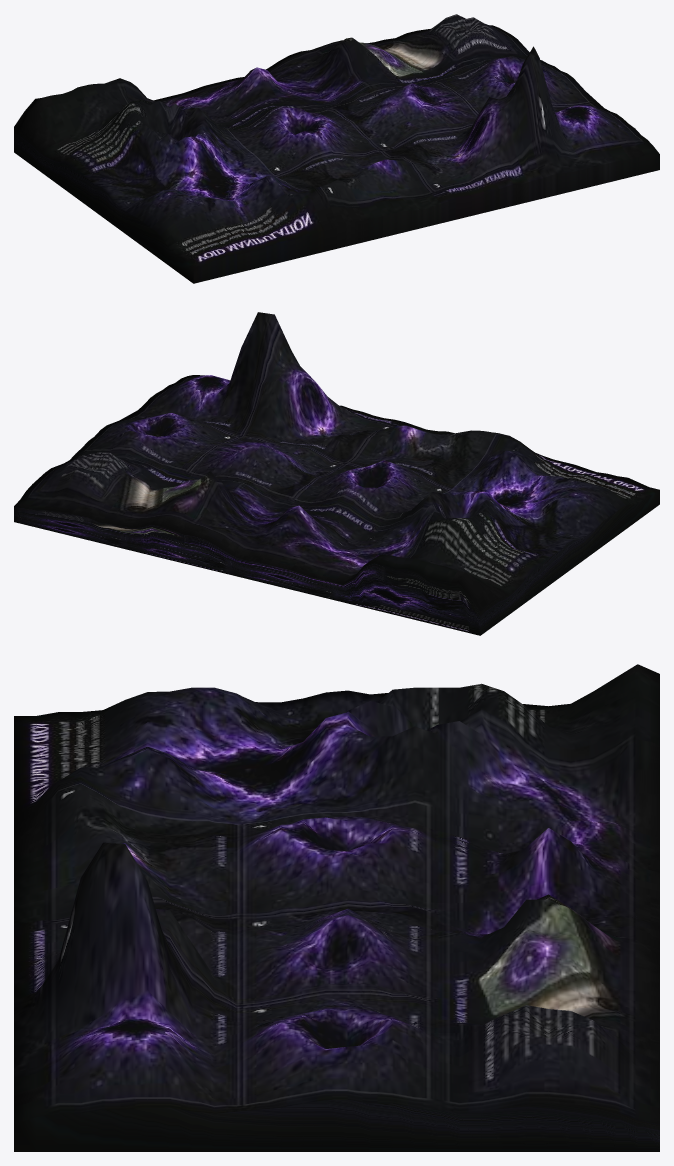
Rendered from CUL_51_Void_Manipulation.glb.
3 renders of one model, top to bottom at view 1: azimuth 30°, elevation 25°; view 2: azimuth 150°, elevation 25°; view 3: azimuth 270°, elevation 25°, orthographic. The views are drawn at different scales.
Parts seen in each view (by area): view 1: CUL_51_Void_Manipulation; view 2: CUL_51_Void_Manipulation; view 3: CUL_51_Void_Manipulation.
Boxes of the visible parts, x1,y1,x2,y2 form: CUL_51_Void_Manipulation: [14, 14, 659, 283]; CUL_51_Void_Manipulation: [14, 312, 659, 635]; CUL_51_Void_Manipulation: [14, 664, 659, 1151].
Size of the model in its own units: 2 by 0.51 by 1.33.
1 material, 1 textured.
